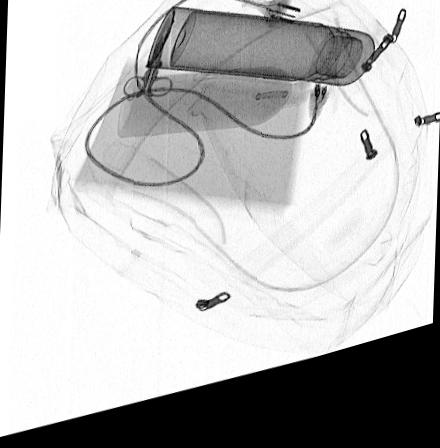Scissors: (121, 49, 175, 105)
